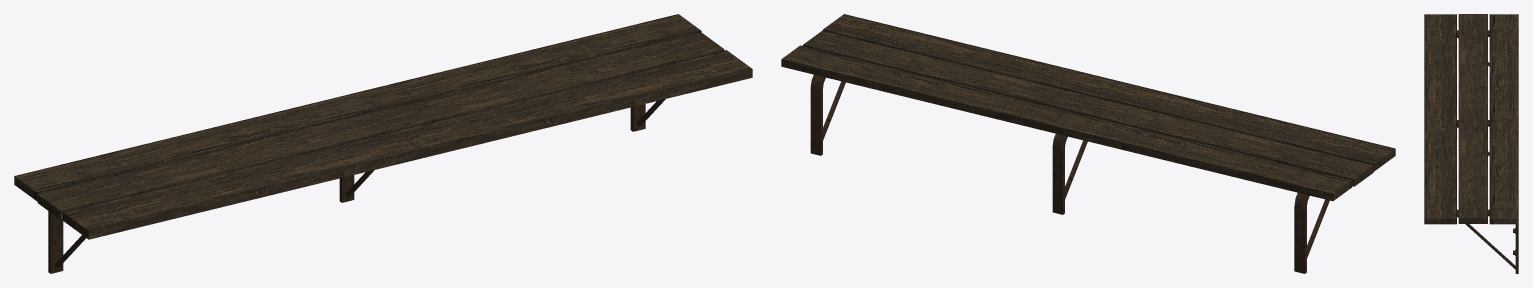
File: hanging_shelf_mx_2_1.glb
The picture shows the model from 3 angles, left to right: view 1: azimuth 30°, elevation 25°; view 2: azimuth 150°, elevation 25°; view 3: azimuth 270°, elevation 25°; orthographic projection. The views are drawn at different scales.
Visible parts, largest first — view 1: hanging_shelf_mx_2_1; view 2: hanging_shelf_mx_2_1; view 3: hanging_shelf_mx_2_1.
Part boxes in pixels (bbox=[...]): hanging_shelf_mx_2_1: bbox=[14, 14, 752, 273]; hanging_shelf_mx_2_1: bbox=[781, 14, 1395, 273]; hanging_shelf_mx_2_1: bbox=[1424, 14, 1518, 273].
Bounding box in the file's own units: 1.6 × 0.24 × 0.312.
Materials: 2 (2 with a texture image).
